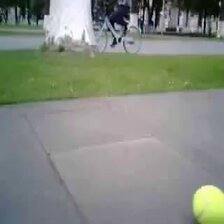tennis: (191, 185, 224, 224)
